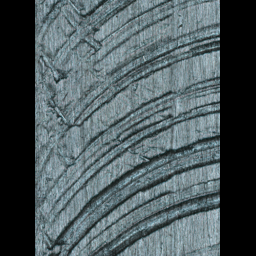d: (35, 0, 218, 253)
